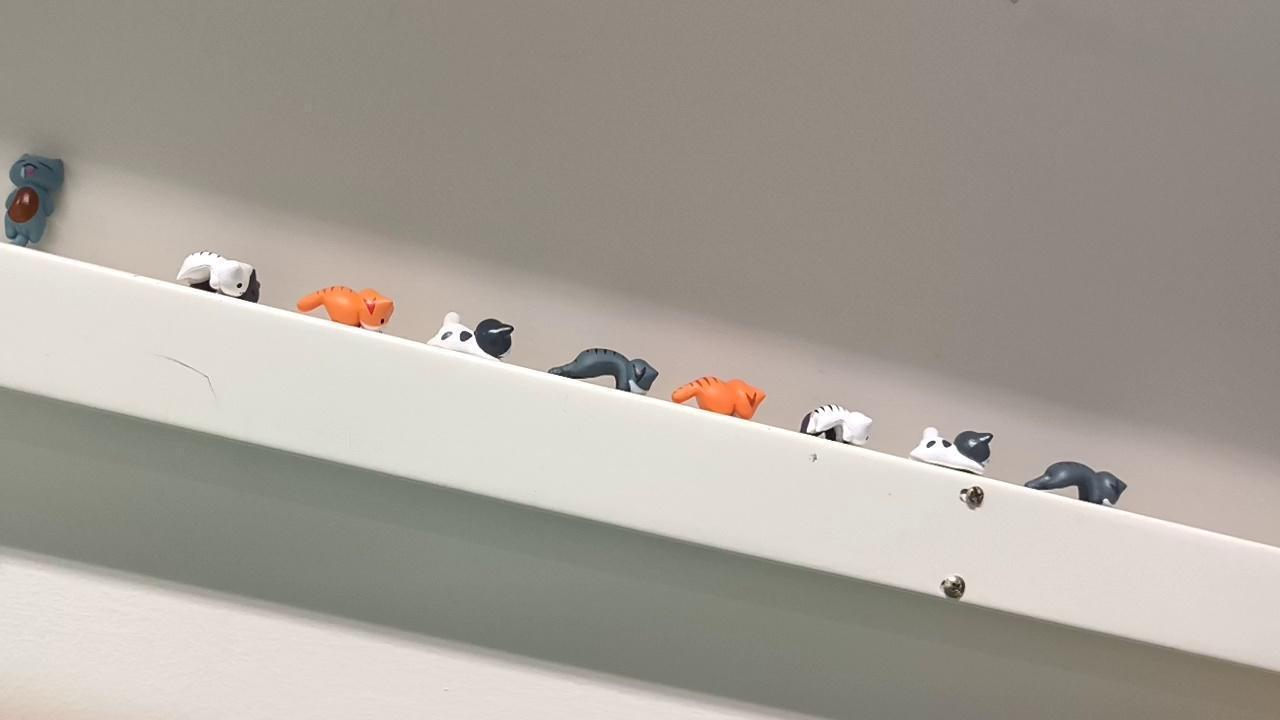pet: (545, 342, 662, 402), (1023, 458, 1130, 512), (420, 310, 519, 364), (294, 284, 400, 334), (668, 374, 770, 421), (907, 427, 994, 477), (176, 250, 251, 304), (799, 402, 875, 446)
